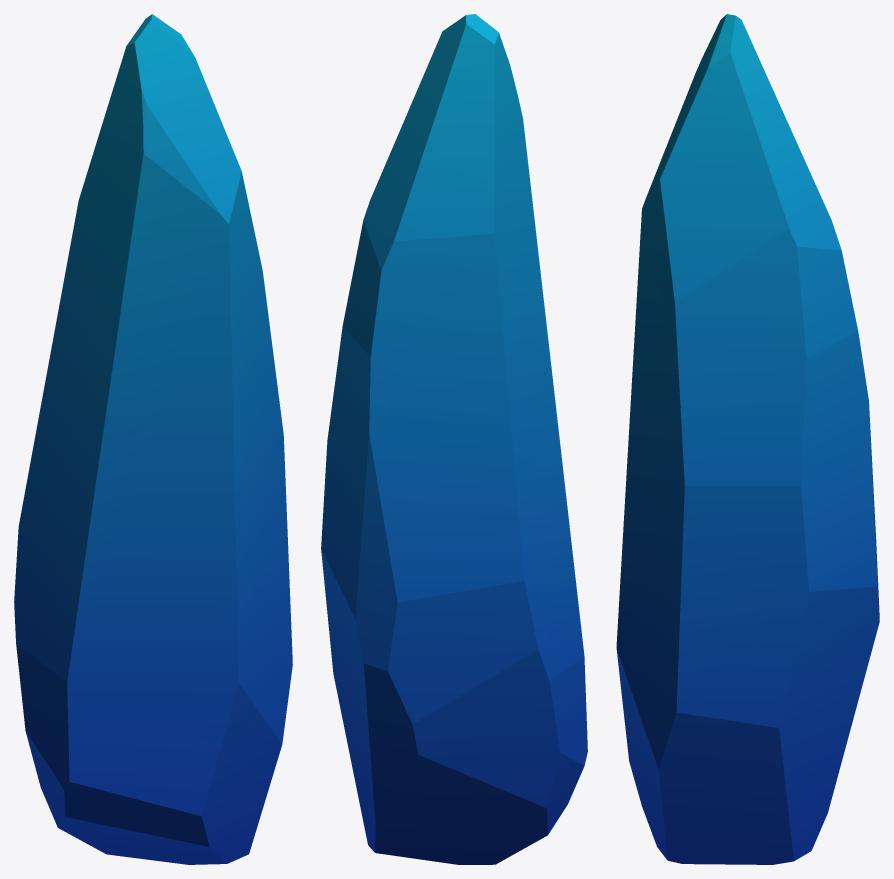
The model's file is Crystal_9.glb.
The picture shows the model from 3 angles, left to right: view 1: azimuth 30°, elevation 25°; view 2: azimuth 150°, elevation 25°; view 3: azimuth 270°, elevation 25°; orthographic projection.
Visible parts, largest first — view 1: crystal_8; view 2: crystal_8; view 3: crystal_8.
Boxes of the visible parts, left/top/right/bottom form: crystal_8: left=14, top=14, right=292, bottom=864; crystal_8: left=321, top=14, right=587, bottom=864; crystal_8: left=616, top=14, right=879, bottom=864.
Bounding box in the file's own units: 4.05 × 14.66 × 4.23.
